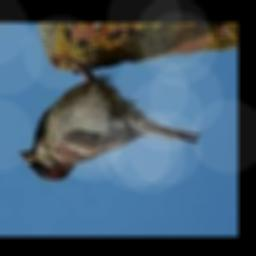Sparrow: (20, 55, 201, 181)
